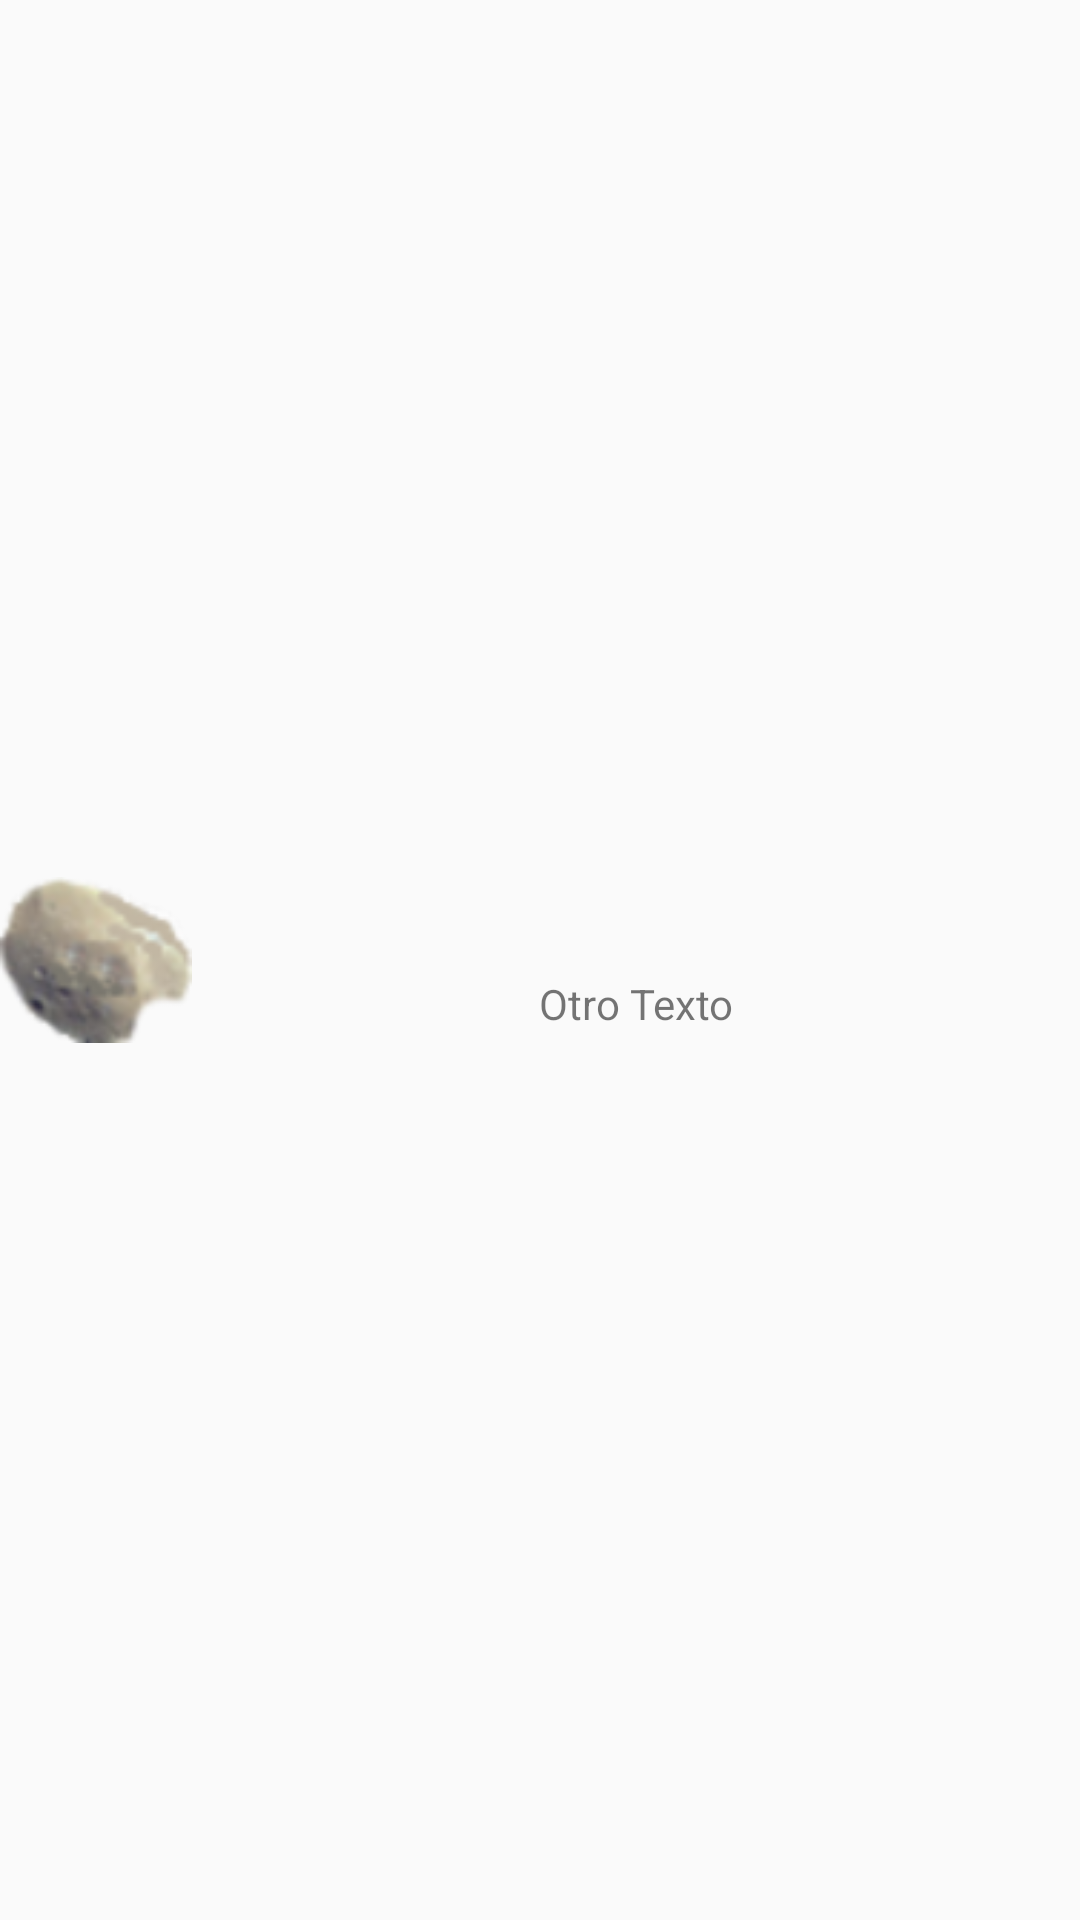

Icon click points for this 1080px x 1920px phone screenshot, format point (x, y):
asteroide: point (96, 961)
